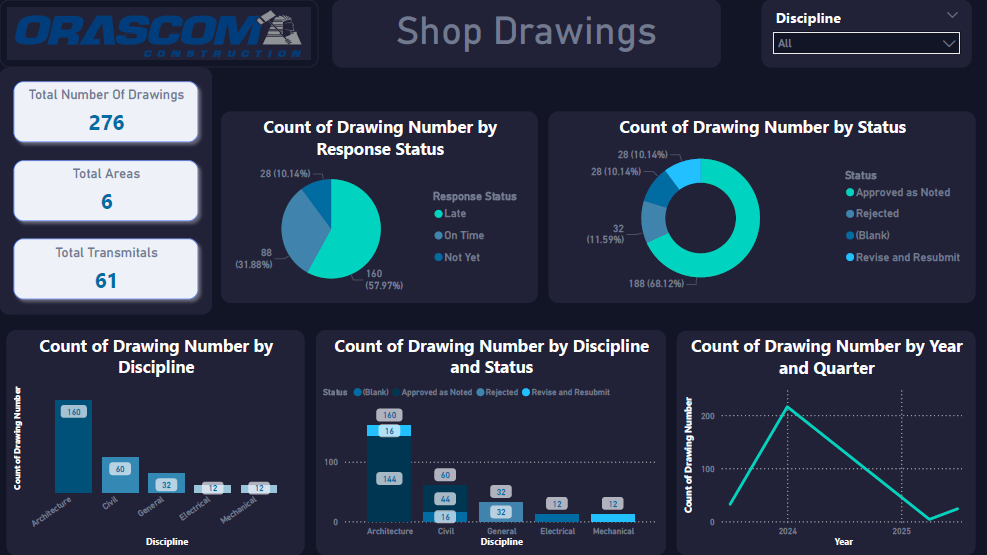

The page's visual inventory and layout, read from the dashboard file:
{"tool":"powerbi","page":{"name":"Dashboard","canvas":[1280,720],"ordinal":0},"visuals":[{"type":"textbox","box":[430.7,0,503.5,88],"z":0},{"type":"cardVisual","fields":{"Data":["CountNonNull(Project.Drawing Number)","Count(Project.Area / Location)","Count(Project.Document Title)"]},"box":[0,87.8,275,319.7],"z":1000},{"type":"slicer","fields":{"Values":["Project.Discipline"]},"box":[987.3,0,271.5,88],"z":2000},{"type":"lineStackedColumnComboChart","fields":{"Y":["CountNonNull(Project.Drawing Number)"],"Category":["Project.Discipline"]},"box":[8.6,427.7,385.9,292.3],"z":3000},{"type":"lineChart","fields":{"Y":["CountNonNull(Project.Drawing Number)"],"Category":["Project.Submission Date.Variation.Date Hierarchy.Year","Project.Submission Date.Variation.Date Hierarchy.Quarter"]},"box":[877,429.1,387.4,290.9],"z":4000},{"type":"lineStackedColumnComboChart","fields":{"Y":["CountNonNull(Project.Drawing Number)"],"Series":["Project.Status"],"Category":["Project.Discipline"]},"box":[410.4,427.7,452.2,292.3],"z":5000},{"type":"pieChart","fields":{"Y":["CountNonNull(Project.Drawing Number)"],"Category":["Project.Response Status"]},"box":[286.6,145.4,410.4,247.7],"z":6000},{"type":"donutChart","fields":{"Y":["CountNonNull(Project.Drawing Number)"],"Category":["Project.Status"]},"box":[711.4,145.4,553,247.7],"z":7000},{"type":"image","box":[0,0,412.5,88],"z":8001}]}

Visuals, with their boxes in screenshot pixels (x1, y1, x2, y2), scaled from the page's 1280x720 canvas onto the 987x555 screenshot:
textbox: rect(332, 0, 720, 68)
cardVisual - CountNonNull(Project.Drawing Number) x Count(Project.Area / Location): rect(0, 68, 212, 314)
slicer - Project.Discipline: rect(761, 0, 971, 68)
lineStackedColumnComboChart - CountNonNull(Project.Drawing Number) x Project.Discipline: rect(7, 330, 304, 554)
lineChart - CountNonNull(Project.Drawing Number) x Project.Submission Date.Variation.Date Hierarchy.Year: rect(676, 331, 975, 554)
lineStackedColumnComboChart - CountNonNull(Project.Drawing Number) x Project.Status: rect(316, 330, 665, 554)
pieChart - CountNonNull(Project.Drawing Number) x Project.Response Status: rect(221, 112, 537, 303)
donutChart - CountNonNull(Project.Drawing Number) x Project.Status: rect(549, 112, 975, 303)
image: rect(0, 0, 318, 68)
